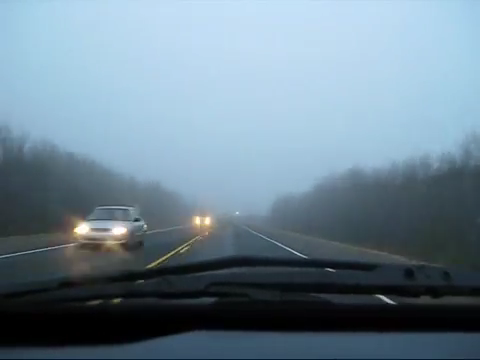car: (73, 204, 147, 249), (194, 210, 212, 229)
